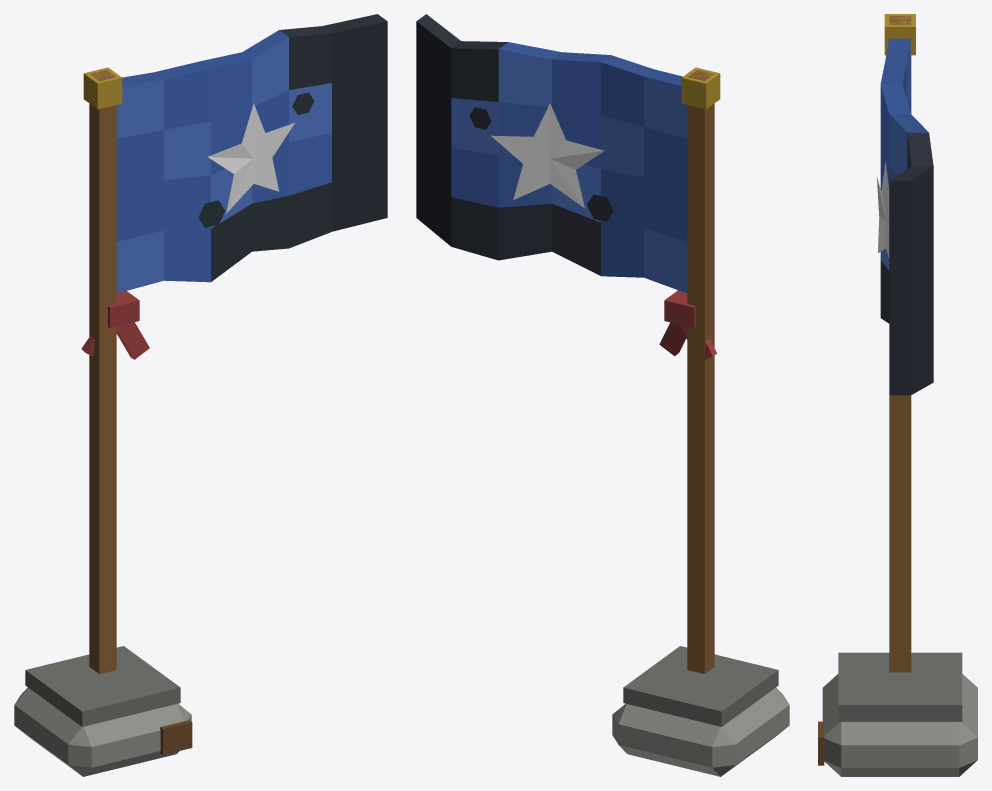
File: tutorial_flag.glb
3 renders of one model, left to right at view 1: azimuth 30°, elevation 25°; view 2: azimuth 150°, elevation 25°; view 3: azimuth 270°, elevation 25°, orthographic. The views are drawn at different scales.
Parts seen in each view (by area): view 1: TutorialFlag; view 2: TutorialFlag; view 3: TutorialFlag.
Boxes of the visible parts, bbox=[...] form: TutorialFlag: bbox=[14, 14, 387, 776]; TutorialFlag: bbox=[416, 14, 789, 776]; TutorialFlag: bbox=[818, 14, 977, 776].
Size of the model in its own units: 1.38 by 2.6 by 0.515.
1 material, 1 textured.
